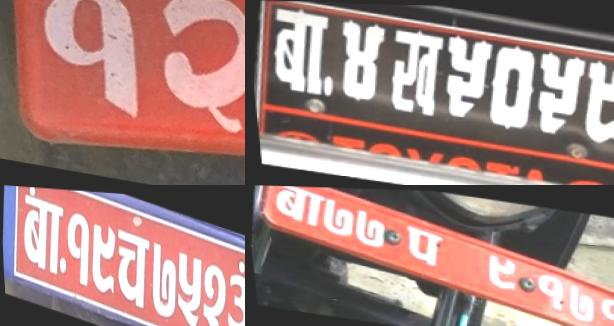0: (478, 38, 544, 132)
1: (20, 0, 158, 128), (62, 203, 93, 290), (530, 271, 568, 310), (594, 292, 614, 326)
2: (138, 0, 245, 141), (196, 250, 230, 326)
3: (221, 259, 245, 326)
4: (319, 12, 395, 110)
5: (430, 30, 500, 126), (522, 44, 590, 141), (172, 242, 206, 326)
7: (146, 235, 180, 324), (350, 205, 393, 249), (317, 194, 358, 234), (561, 282, 599, 325)
9: (567, 50, 614, 149), (86, 214, 119, 297), (478, 253, 524, 291)
ba: (253, 2, 346, 105), (17, 186, 68, 278), (270, 185, 329, 230)
cha: (111, 219, 154, 314)
kha: (374, 23, 454, 120)
pa: (391, 219, 451, 269)
